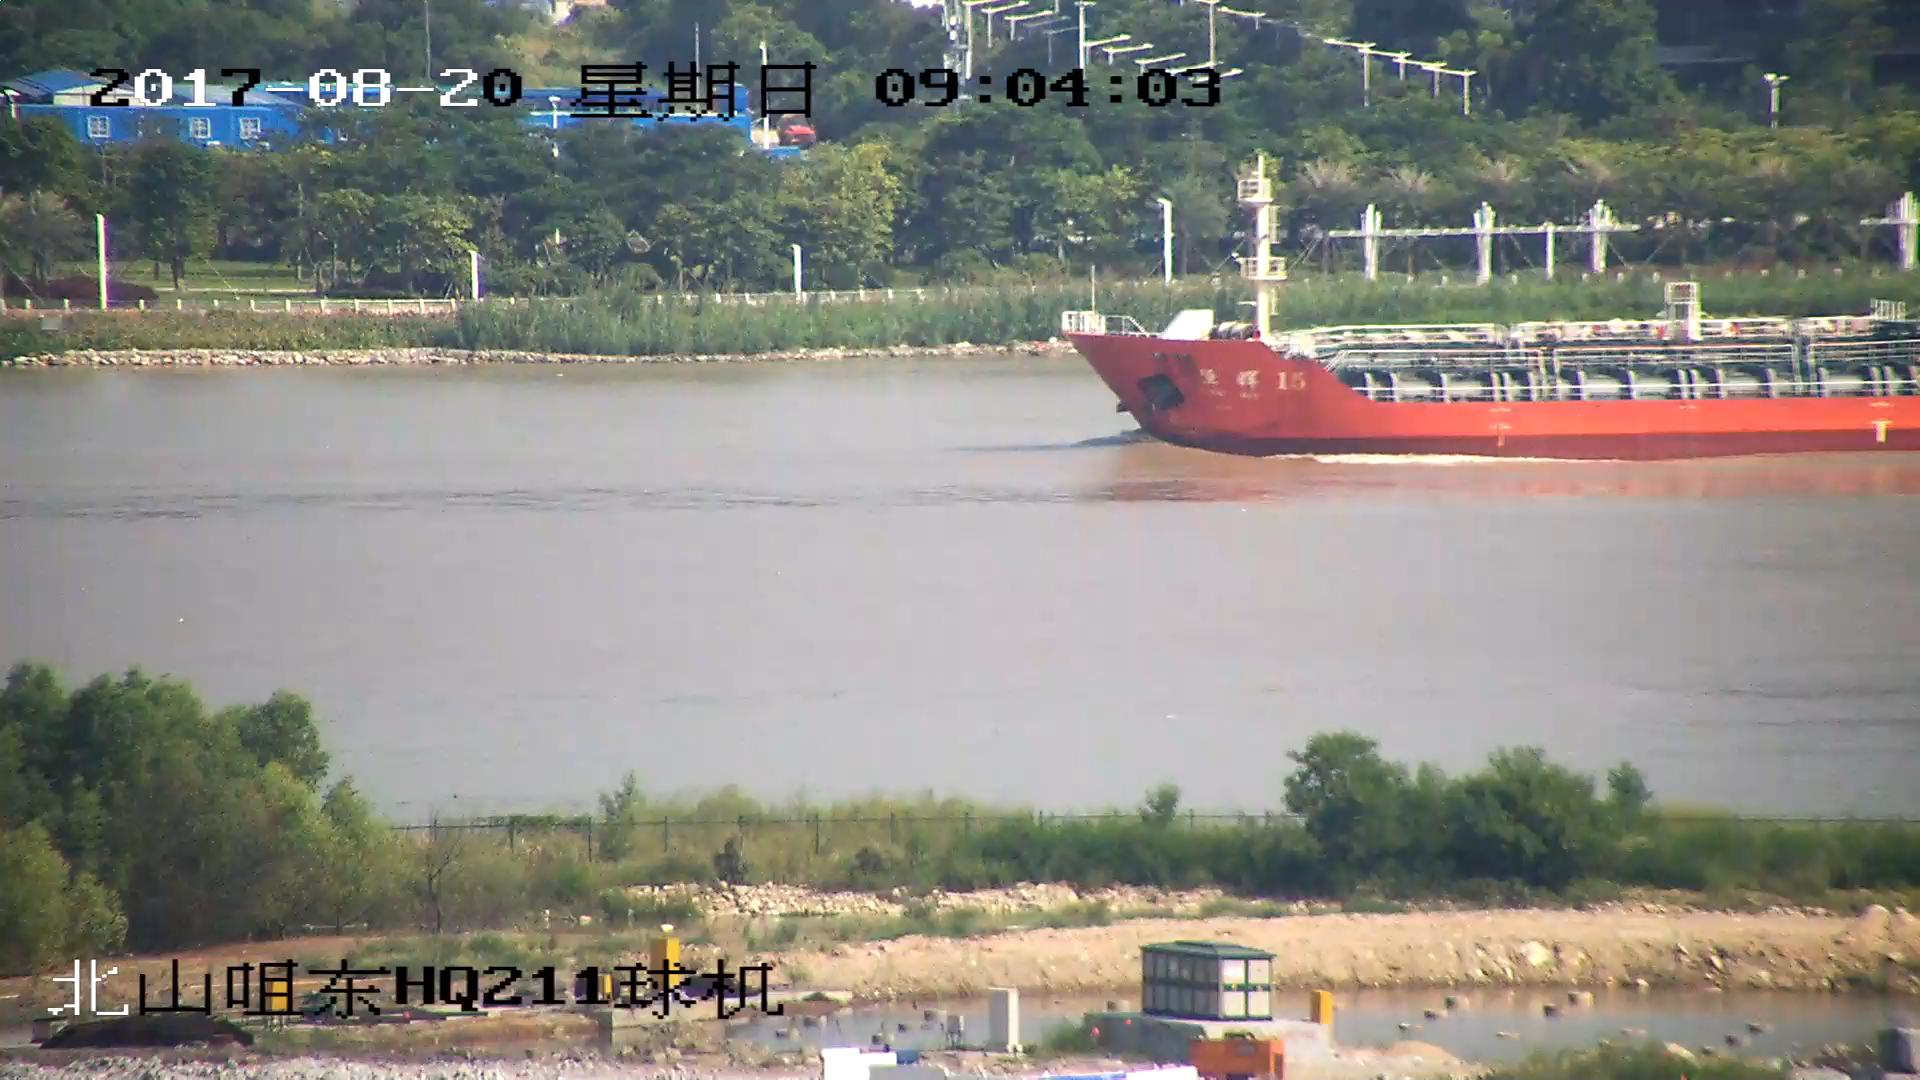general cargo ship: (1063, 174, 1920, 464)
